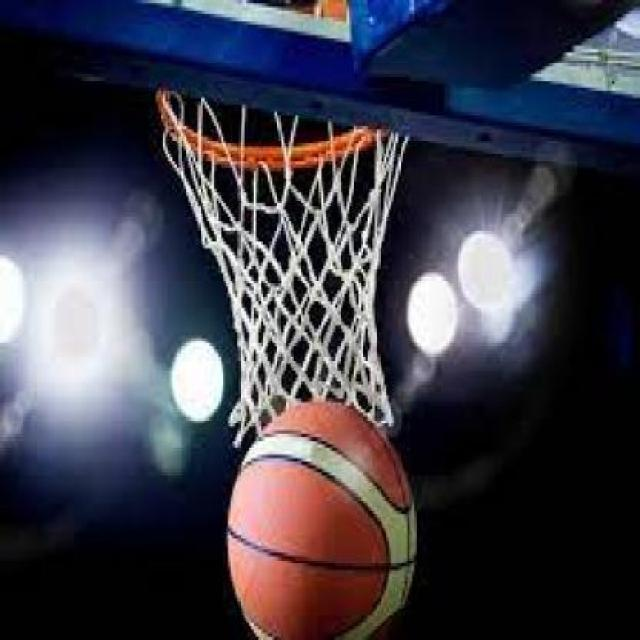basketball: (227, 396, 418, 640)
rim: (149, 82, 403, 422)
